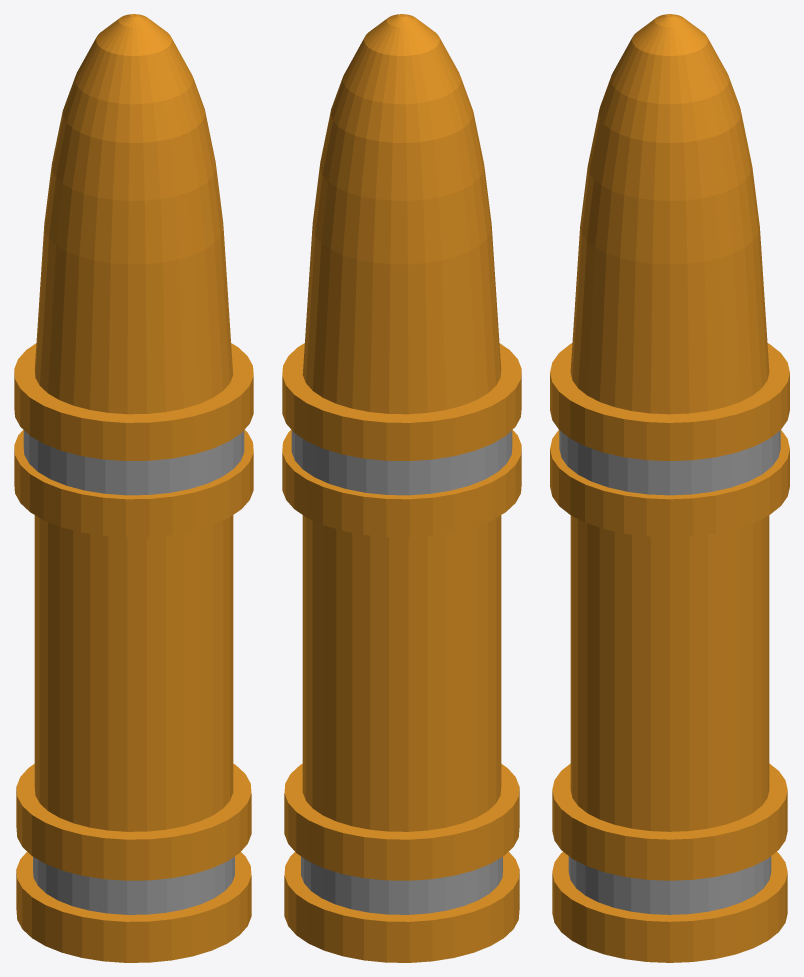
File: bullet.fbx
3 views of the same model, side by side, from view 1: azimuth 30°, elevation 25°; view 2: azimuth 150°, elevation 25°; view 3: azimuth 270°, elevation 25° (orthographic).
Visible parts, largest first — view 1: Cylinder; view 2: Cylinder; view 3: Cylinder.
Part boxes in pixels (x1,y1,x2,y2): Cylinder: (14, 14, 253, 962); Cylinder: (282, 14, 521, 962); Cylinder: (550, 14, 789, 962).
Bounding box in the file's own units: 49.08 × 203 × 49.08.
